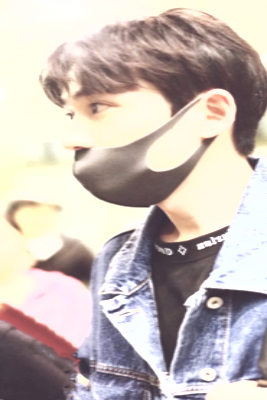mask_weared_incorrect: (60, 97, 203, 207)
